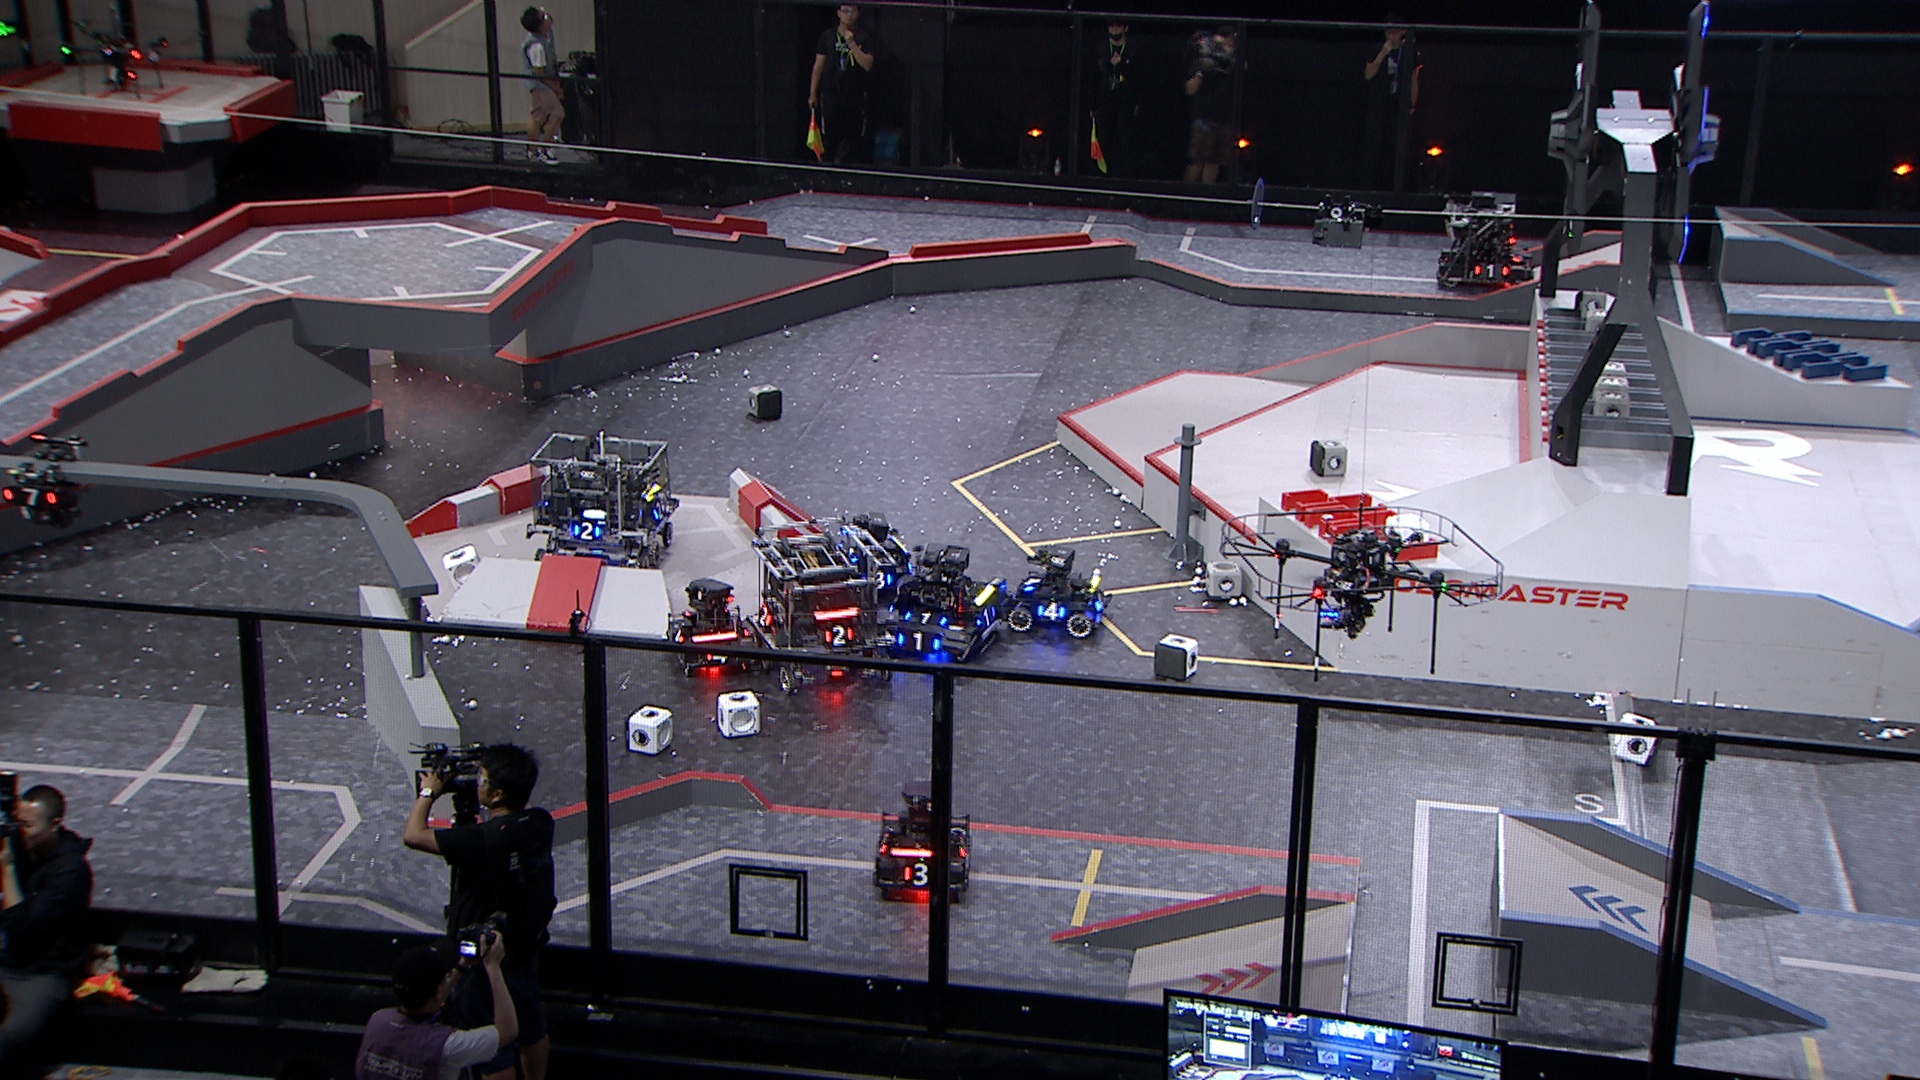armor: (1, 485, 61, 506), (894, 632, 944, 655), (820, 622, 856, 647), (903, 860, 931, 887), (1472, 262, 1513, 281), (902, 611, 948, 626), (571, 522, 603, 543), (1034, 603, 1067, 621), (1022, 570, 1046, 593), (872, 570, 897, 589), (756, 603, 774, 629), (707, 647, 735, 665), (975, 604, 996, 626), (651, 498, 665, 524), (1091, 593, 1106, 611), (670, 626, 684, 645)
car: (742, 517, 898, 694), (526, 431, 684, 574), (869, 543, 1015, 665), (870, 779, 977, 905), (665, 576, 770, 678), (1432, 187, 1534, 291), (1007, 542, 1116, 638), (816, 510, 920, 608)
